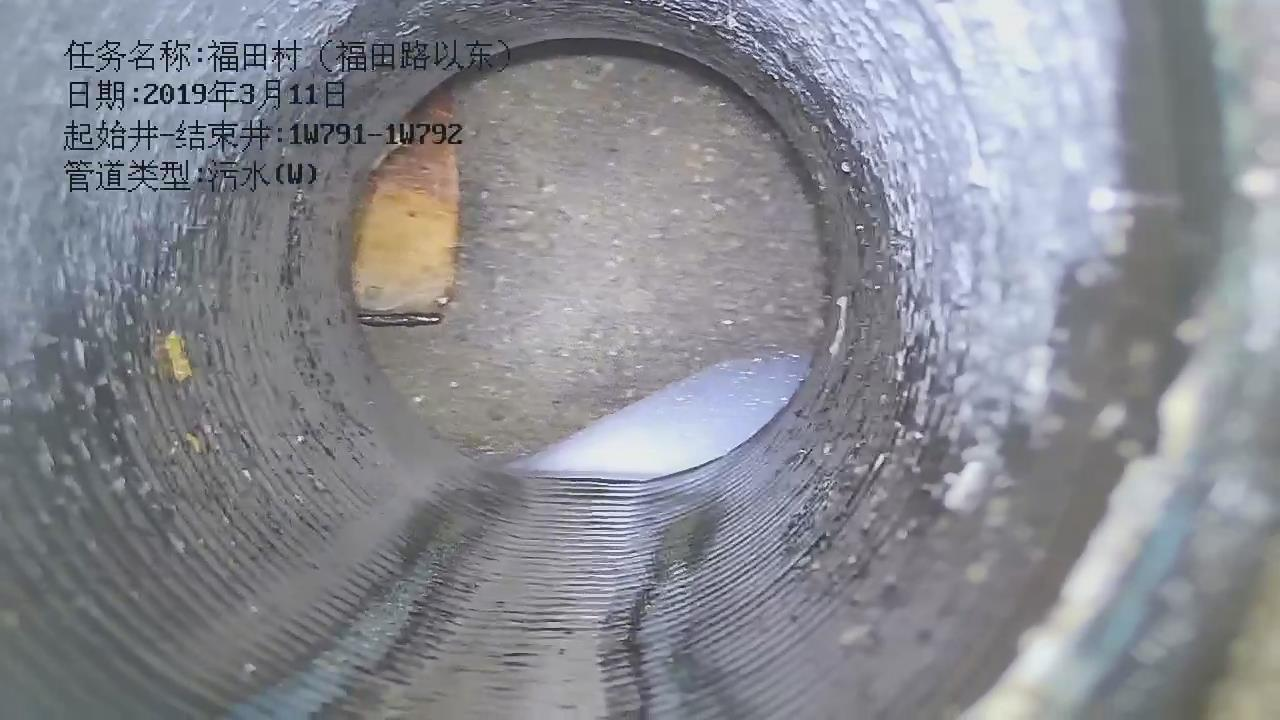ZGAJ: (351, 86, 462, 324)
